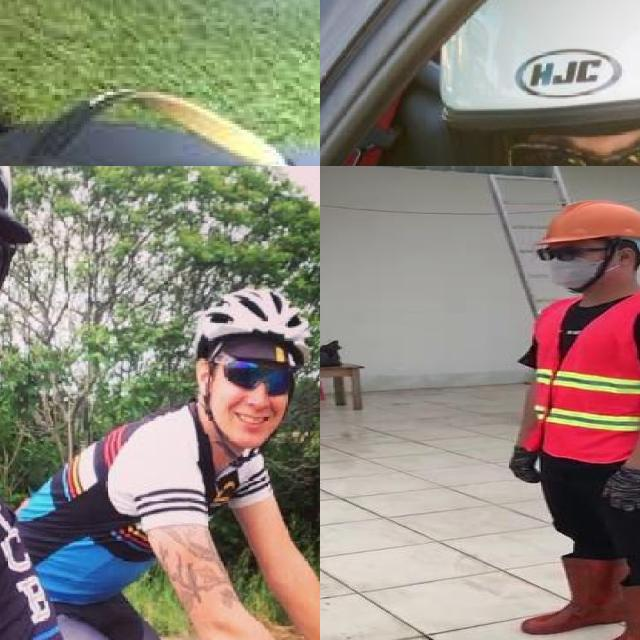Sandals: (0, 40, 320, 166)
boots: (518, 557, 630, 636), (583, 579, 640, 640)
face_mask: (529, 245, 603, 288)
face_nomask: (224, 363, 290, 440)
glasses: (498, 118, 640, 166), (219, 352, 297, 402), (528, 244, 597, 265)
hand_glove: (601, 465, 640, 513), (507, 444, 548, 482)
head_helmet: (433, 0, 640, 160), (189, 279, 320, 355), (531, 196, 640, 246)
person: (11, 283, 317, 640), (497, 197, 640, 640)
vest: (528, 294, 640, 461)
